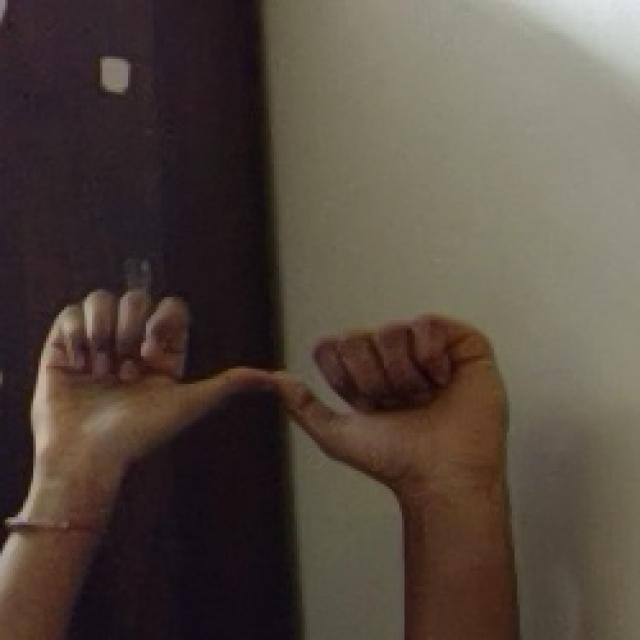Alphabet-A: (15, 288, 494, 487)
